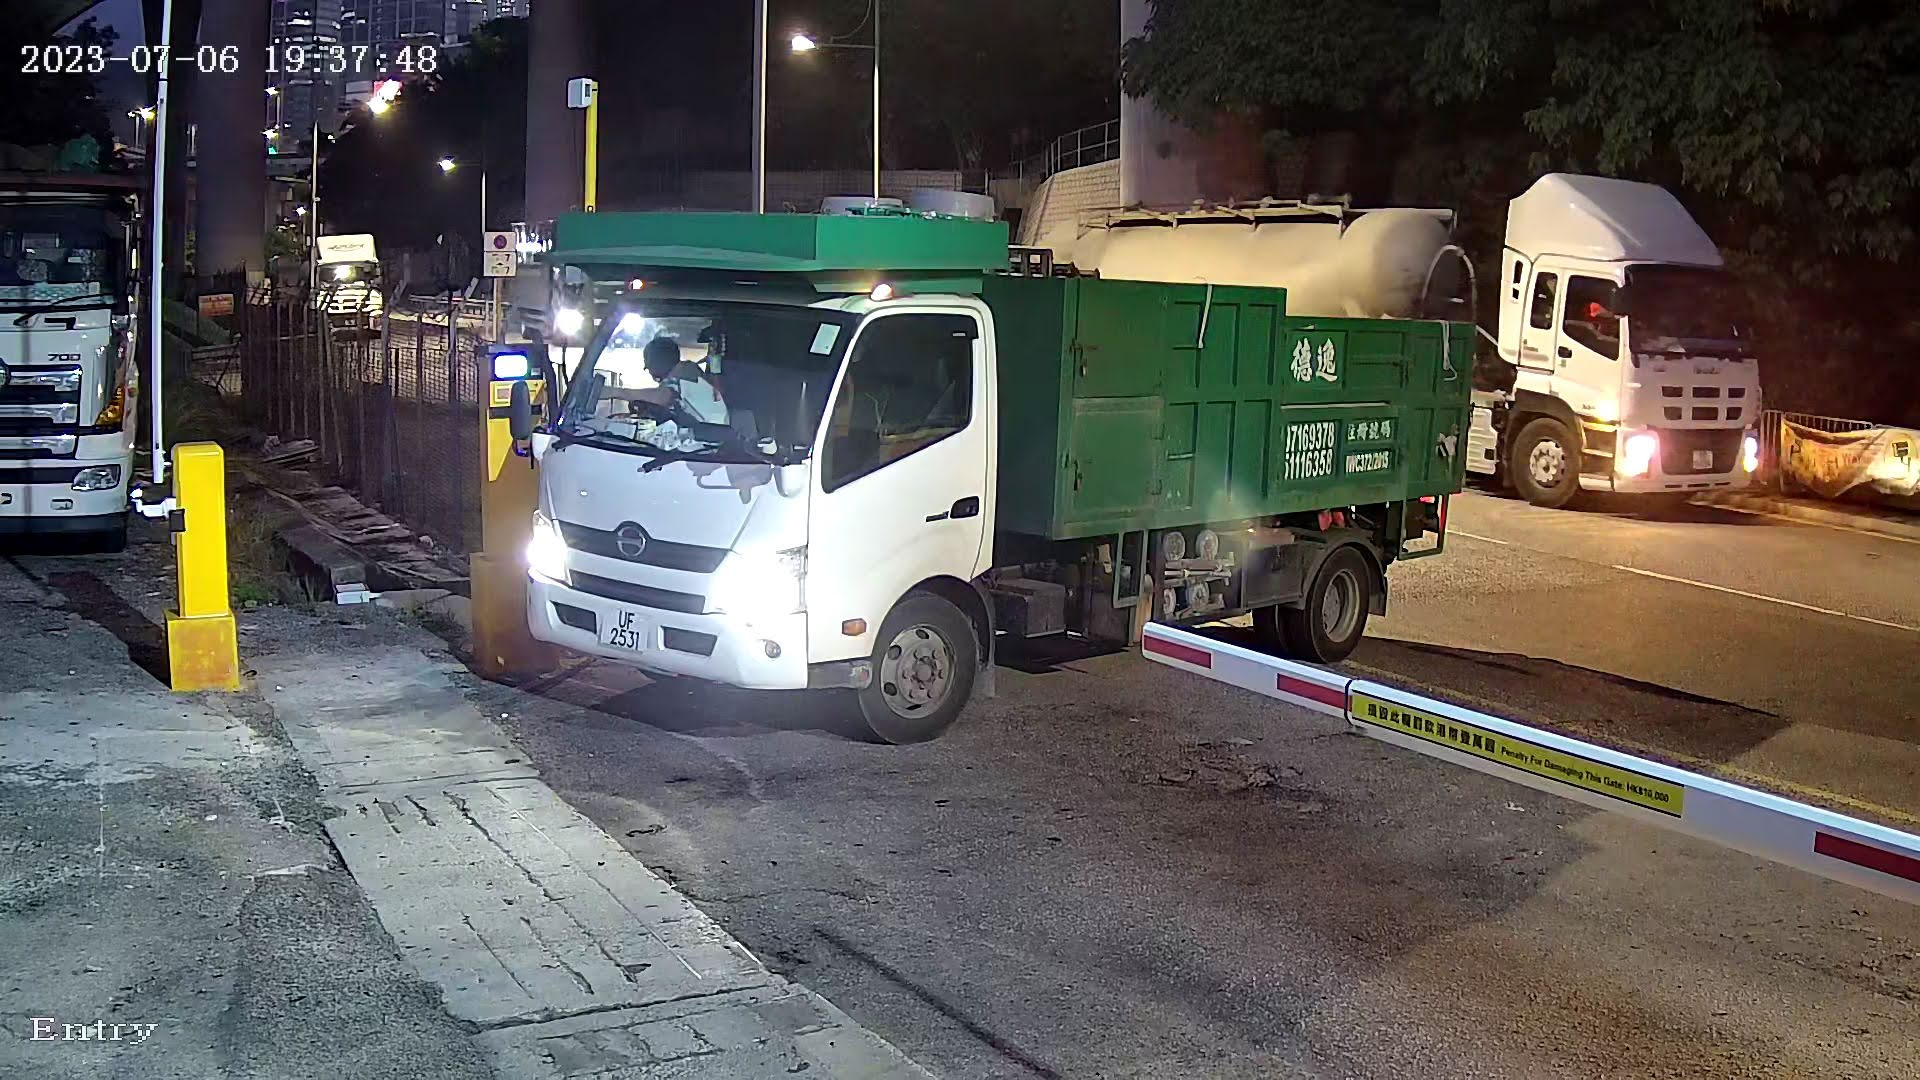truck: (471, 153, 1516, 753)
